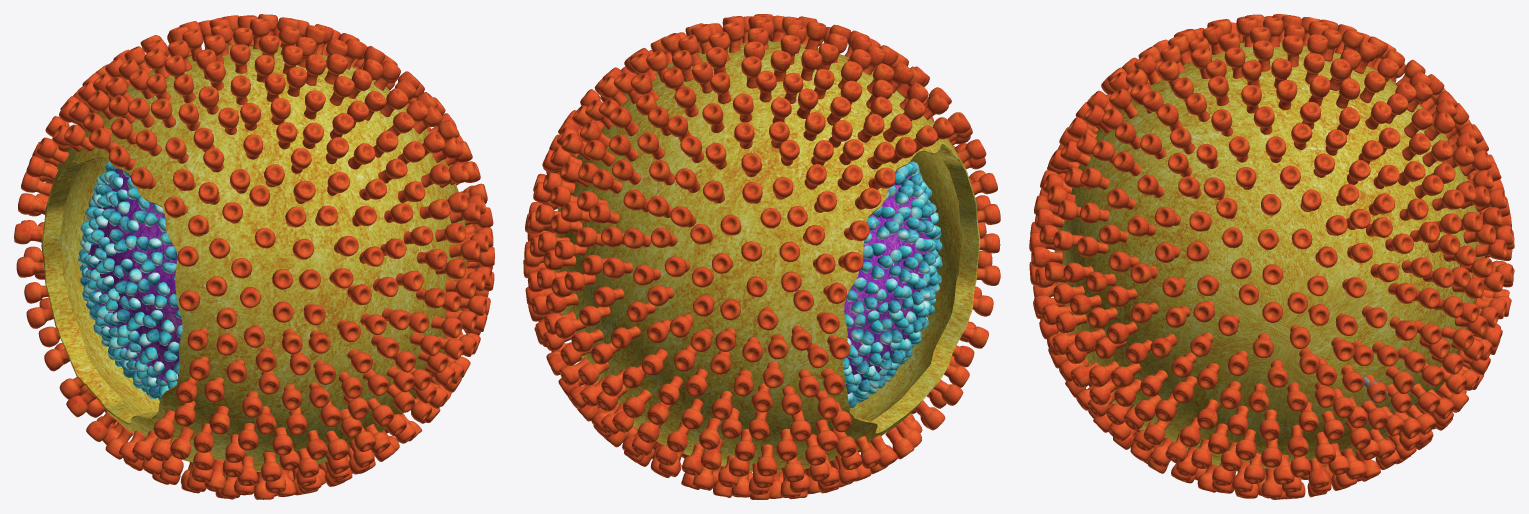
The model's file is exp01.fbx.
The picture shows the model from 3 angles, left to right: view 1: azimuth 30°, elevation 25°; view 2: azimuth 150°, elevation 25°; view 3: azimuth 270°, elevation 25°; orthographic projection.
Visible parts, largest first — view 1: Sphere001, Sphere002, Line526; view 2: Sphere001, Sphere002, Line060, Line310; view 3: Sphere001.
Boxes of the visible parts, <box> form: Sphere001: <box>41,44,468,471</box>; Sphere002: <box>87,169,182,387</box>; Line526: <box>170,427,194,459</box>; Sphere001: <box>554,41,980,472</box>; Sphere002: <box>844,171,931,393</box>; Line060: <box>609,106,638,136</box>; Line310: <box>571,329,603,352</box>; Sphere001: <box>1054,42,1484,470</box>.
Size of the model in its own units: 259 by 293 by 293.
Materials: 5 (4 with a texture image).
